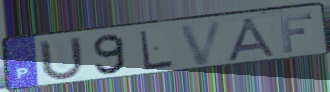9: (92, 33, 128, 77)
A: (224, 16, 281, 63)
F: (278, 11, 315, 55)
L: (138, 29, 176, 72)
U: (37, 35, 88, 83)
V: (177, 18, 227, 67)
